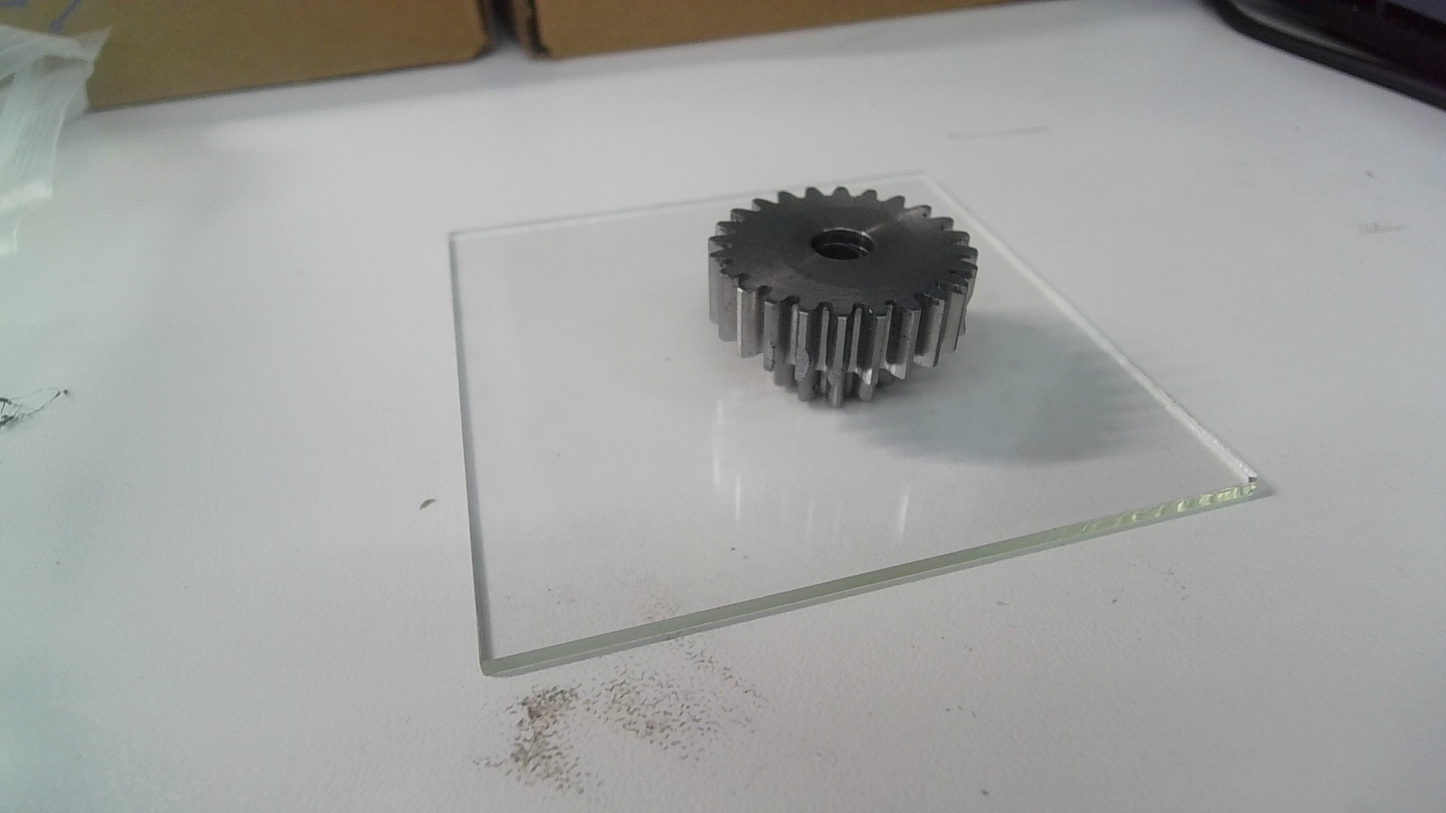gear: (704, 183, 981, 411)
